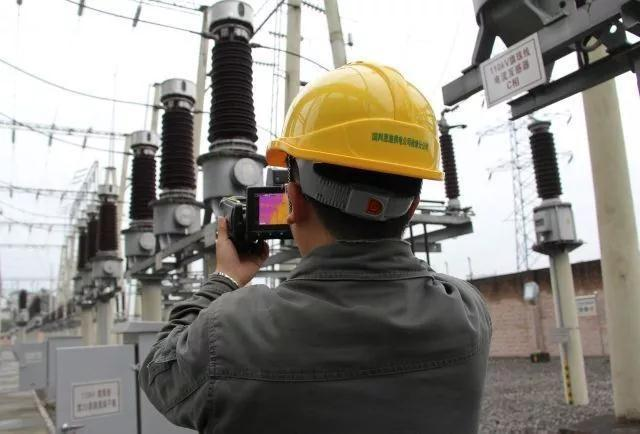helmet: (281, 64, 445, 179)
no-vest: (196, 254, 495, 424)
person: (138, 54, 507, 424)
